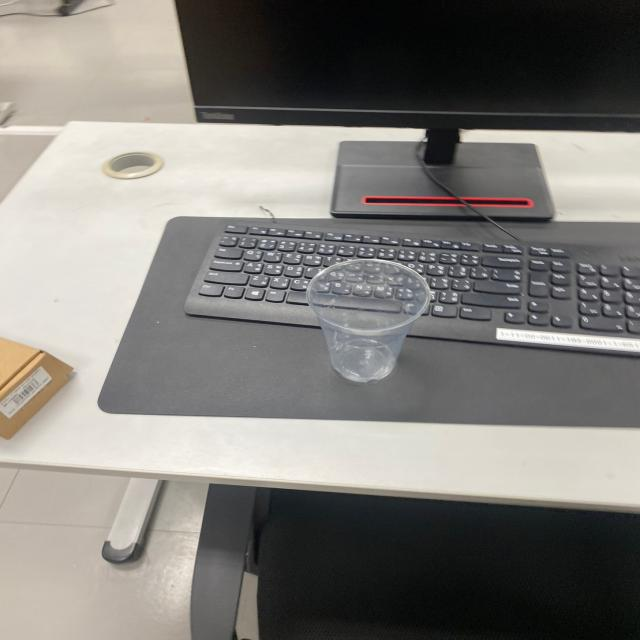glass: (302, 256, 438, 387)
